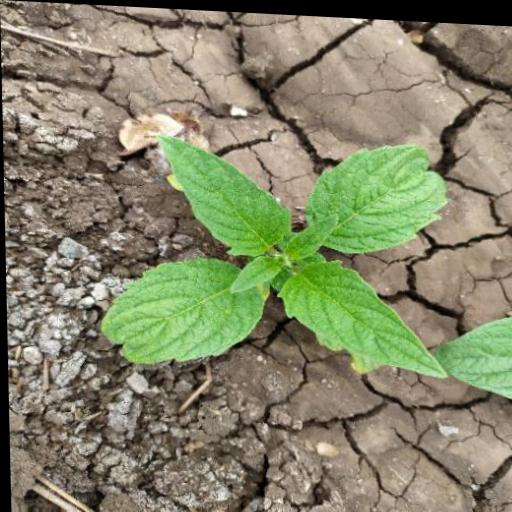crop: (84, 72, 445, 395)
